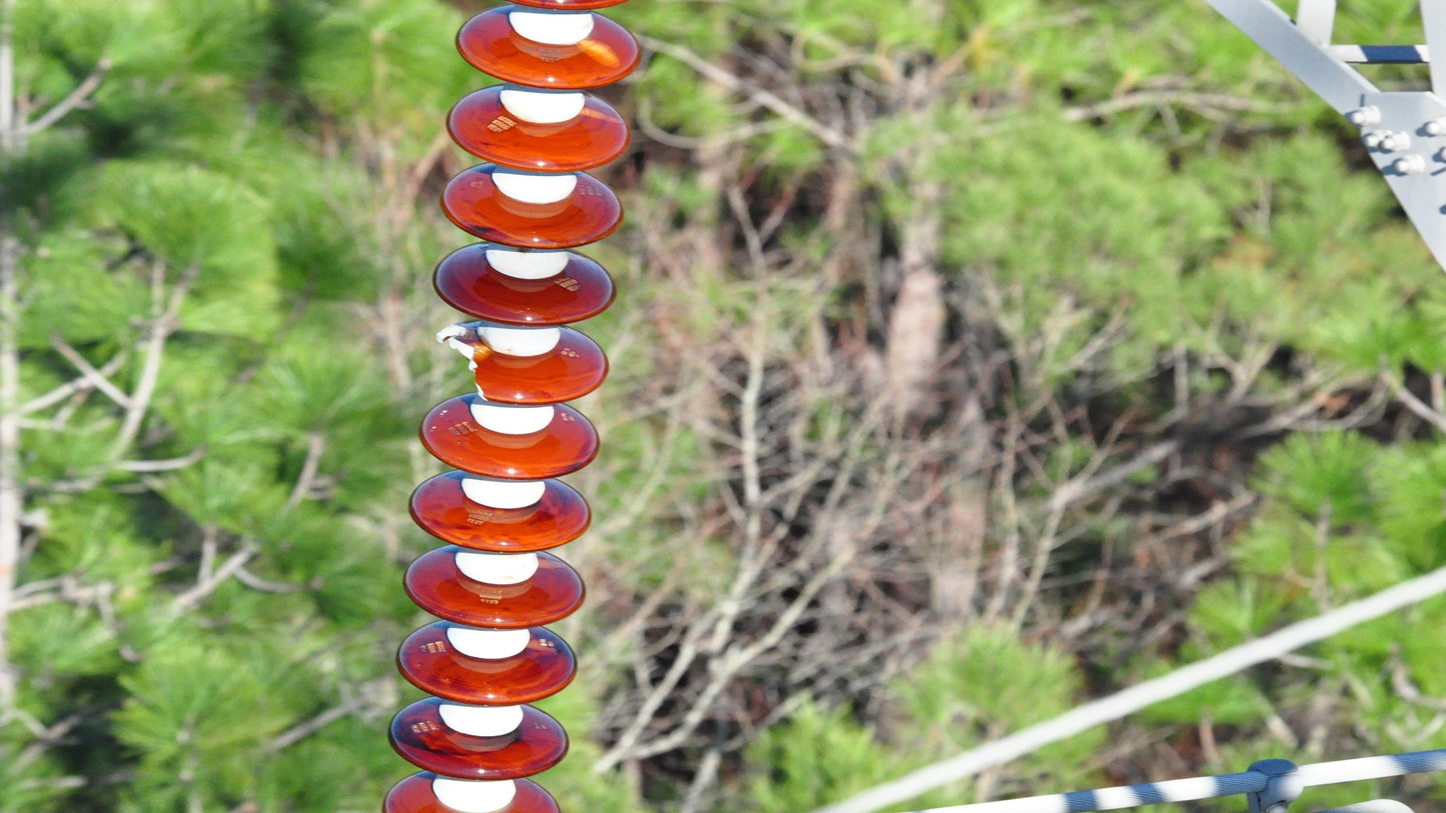insulator: (373, 1, 648, 813)
